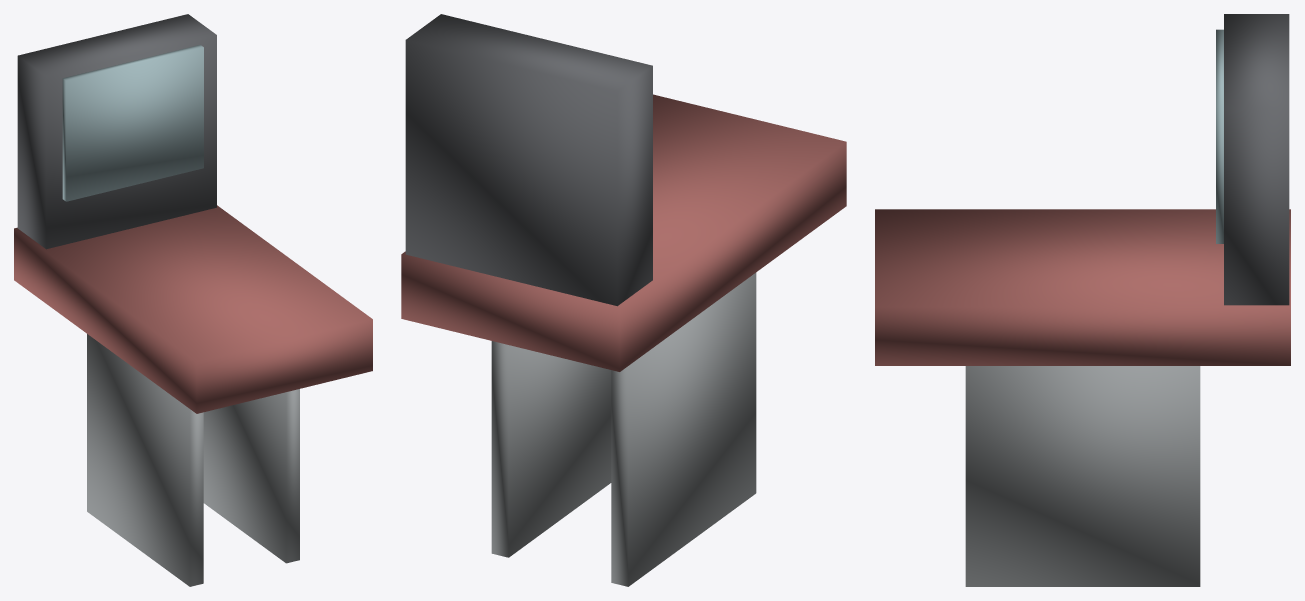
The model's file is pinball_machine.glb.
3 views of the same model, side by side, from view 1: azimuth 30°, elevation 25°; view 2: azimuth 150°, elevation 25°; view 3: azimuth 270°, elevation 25° (orthographic). The views are drawn at different scales.
Parts seen in each view (by area): view 1: world; view 2: world; view 3: world.
Part boxes in pixels (x1,y1,x2,y2): world: [14, 14, 372, 586]; world: [401, 14, 846, 586]; world: [875, 14, 1290, 586].
Size of the model in its own units: 0.64 by 1.51 by 1.15.
